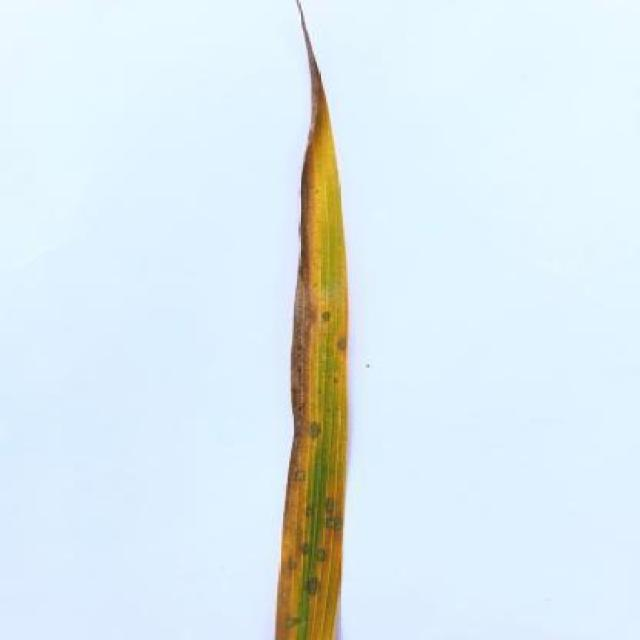Rice False Smut: (275, 9, 348, 639)
